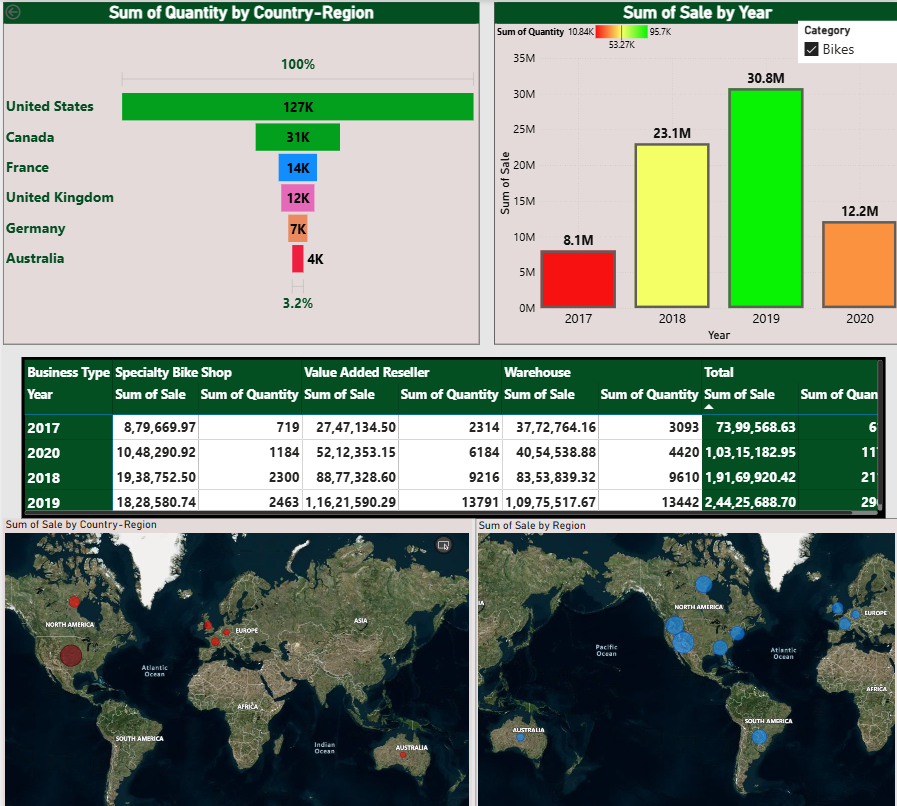

This screenshot's page, from the dashboard's own definition file:
{"tool":"powerbi","page":{"name":"Page 2","canvas":[1800,1700],"ordinal":1},"visuals":[{"type":"map","fields":{"Category":["Sales.Region"],"Size":["Sum(Sales.Sale)"]},"box":[945,1032.5,846.7,616.7],"z":0},{"type":"map","fields":{"Category":["Reseller csv.Country-Region"],"Size":["Sum(Sales.Sale)"]},"box":[0,1032.5,936.7,616.7],"z":1000},{"type":"pivotTable","fields":{"Columns":["Reseller csv.Business Type"],"Rows":["Sales.Order Date.Variation.Date Hierarchy.Year"],"Values":["Sum(Sales.Sale)","Sum(Sales.Quantity)"]},"box":[37.5,710,1727.5,322.5],"z":2000},{"type":"funnel","fields":{"Category":["Reseller csv.Country-Region"],"Y":["Sum(Sales.Quantity)"]},"box":[0,0,952.5,685],"z":3000},{"type":"actionButton","box":[0,0,100,40],"z":4000},{"type":"clusteredColumnChart","fields":{"Category":["Sales.Order Date.Variation.Date Hierarchy.Year","Sales.Order Date.Variation.Date Hierarchy.Quarter","Sales.Order Date.Variation.Date Hierarchy.Month","Sales.Order Date.Variation.Date Hierarchy.Day"],"Y":["Sum(Sales.Sale)"]},"box":[982.5,0,812.5,685],"z":4000,"group":"g1"},{"type":"group","id":"g1","title":"Group 1","box":[982.5,0,812.5,685],"z":5000},{"type":"slicer","fields":{"Values":["Sales.Category"]},"box":[1588.7,37.5,202.5,85],"z":5000,"group":"g1"}]}

Visuals, with their boxes on the page's 1800x1700 design canvas (x1, y1, x2, y2). These are canvas units, not pixel positions in the 897x806 screenshot, which may show the page scaled, cropped or inside an application window:
map - Sales.Region x Sum(Sales.Sale): crop(945, 1032, 1792, 1649)
map - Reseller csv.Country-Region x Sum(Sales.Sale): crop(0, 1032, 937, 1649)
pivotTable - Reseller csv.Business Type x Sales.Order Date.Variation.Date Hierarchy.Year: crop(38, 710, 1765, 1032)
funnel - Reseller csv.Country-Region x Sum(Sales.Quantity): crop(0, 0, 952, 685)
actionButton: crop(0, 0, 100, 40)
clusteredColumnChart - Sales.Order Date.Variation.Date Hierarchy.Year x Sales.Order Date.Variation.Date Hierarchy.Quarter: crop(982, 0, 1795, 685)
"Group 1" group: crop(982, 0, 1795, 685)
slicer - Sales.Category: crop(1589, 38, 1791, 122)
